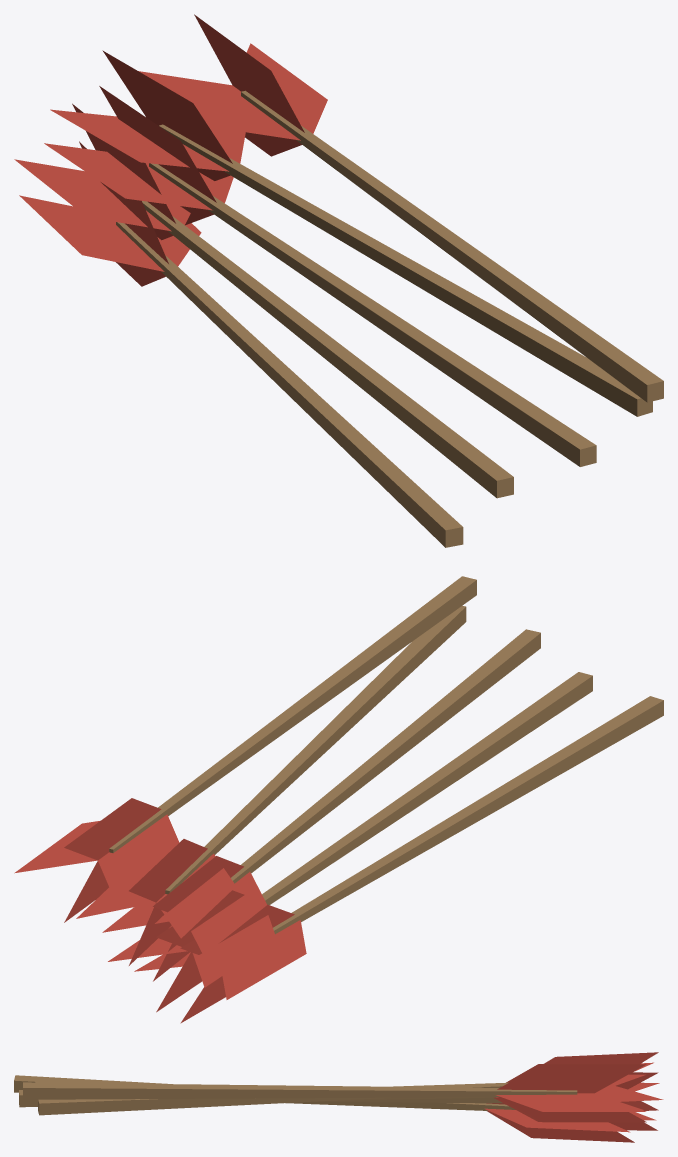
The model's file is HeadlessArrowStack5.glb.
3 renders of one model, top to bottom at view 1: azimuth 30°, elevation 25°; view 2: azimuth 150°, elevation 25°; view 3: azimuth 270°, elevation 25°, orthographic. The views are drawn at different scales.
Parts seen in each view (by area): view 1: HeadlessArrowStack5; view 2: HeadlessArrowStack5; view 3: HeadlessArrowStack5.
Part boxes in pixels (<box>): HeadlessArrowStack5: <box>14,14,663,547</box>; HeadlessArrowStack5: <box>14,576,663,1023</box>; HeadlessArrowStack5: <box>14,1052,663,1142</box>.
Size of the model in its own units: 0.214 by 0.1325 by 0.6542.
